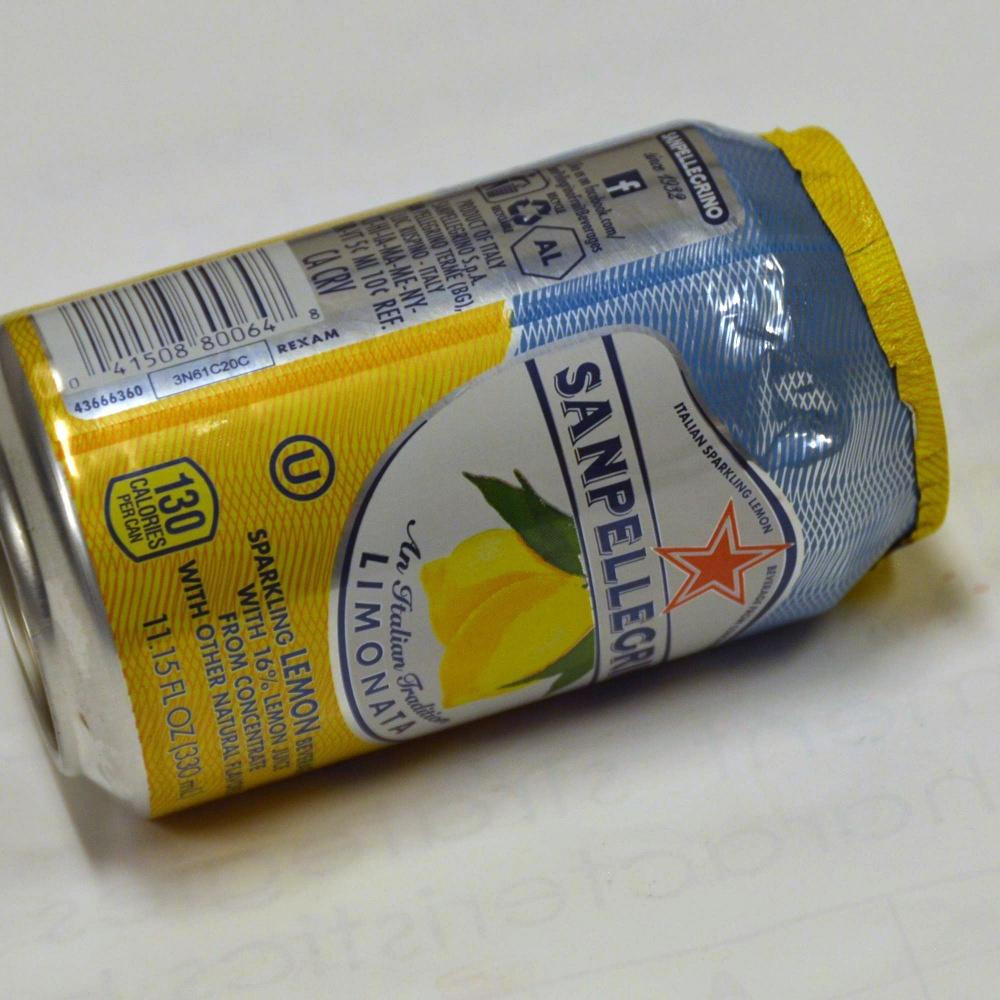Metal: (26, 90, 926, 830)
